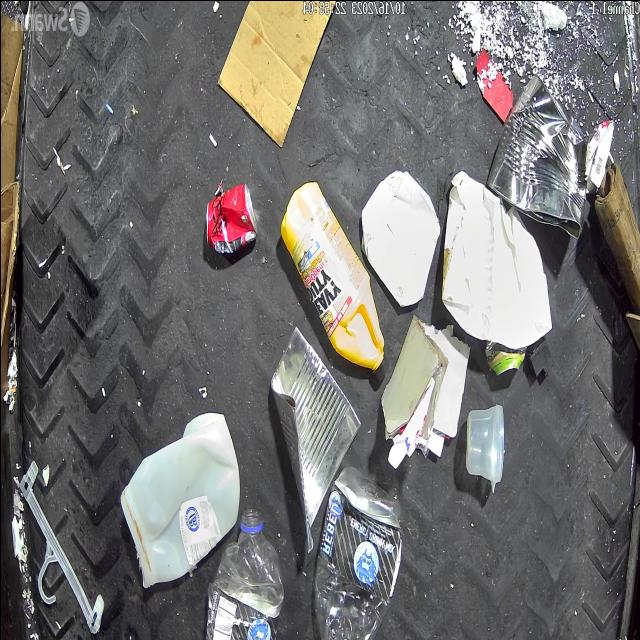can: (490, 74, 595, 244), (205, 180, 257, 252), (484, 344, 522, 374)
milk_jug: (120, 412, 240, 588)
non_white_jug: (282, 177, 388, 380)
plastic_bottle: (312, 463, 401, 640), (204, 508, 282, 640)
